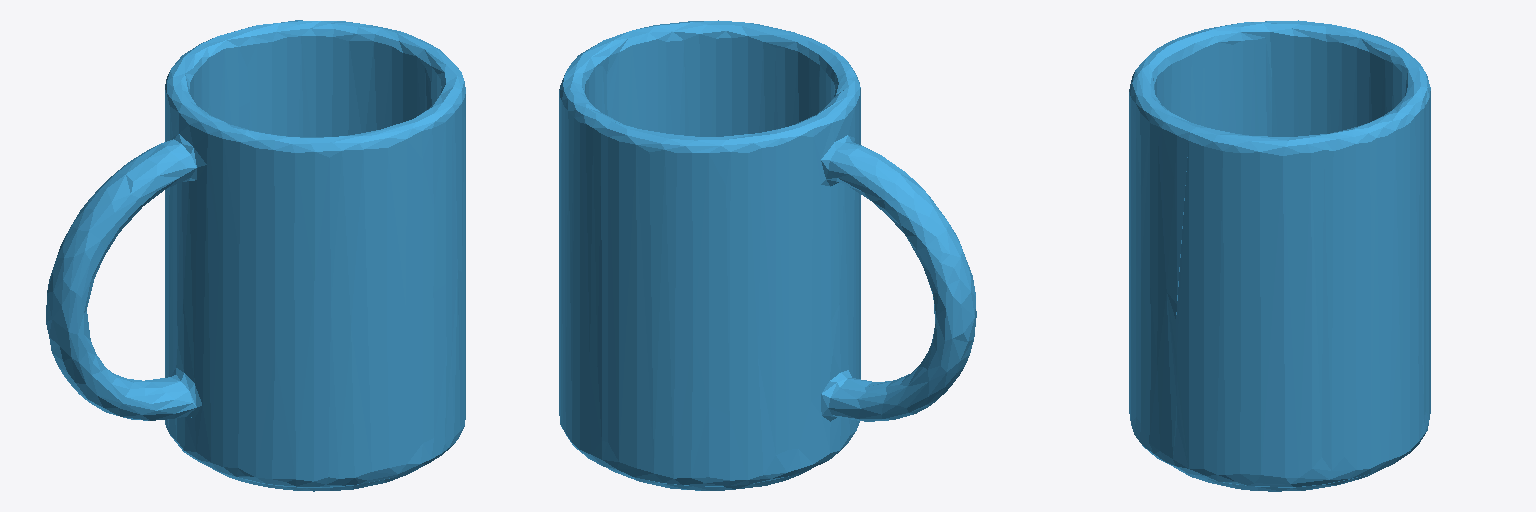
The robot description file, URDF, robot "Mug_ba10400c108e5c3f54e1b6f41fdd78a_M":
<?xml version="1.0"?>
<robot name="Mug_ba10400c108e5c3f54e1b6f41fdd78a_M">
  <link name="base"/>
  <link name="link_0">
  <visual>
    <origin xyz="0.0 0.0 0.0"/>
    <geometry>
      <mesh filename="Mug_ba10400c108e5c3f54e1b6f41fdd78a_M.obj" scale="1.0 1.0 1.0"/>
    </geometry>
  </visual>
  <collision>
    <origin xyz="0.0 0.0 0.0"/>
    <geometry>
      <mesh filename="collision.obj" scale="1.0 1.0 1.0"/>
    </geometry>
  </collision>
  </link>
  <joint name="joint_0" type="fixed">
    <origin rpy="0 0 0" xyz="0 0 0"/>
    <child link="link_0"/>
    <parent link="base"/>
  </joint>
</robot>

--- Render facts (derived) ---
3 views of the same robot in one strip: view 1: azimuth 30°, elevation 25°; view 2: azimuth 150°, elevation 25°; view 3: azimuth 270°, elevation 25° (orthographic).
Robot: Mug_ba10400c108e5c3f54e1b6f41fdd78a_M — 2 links, 1 joints (1 fixed); root link base; default pose: all joints at 0.
Links seen in each view (by area): view 1: link_0; view 2: link_0; view 3: link_0.
Boxes of the visible links, <box> form: link_0: <box>46,20,465,491</box>; link_0: <box>559,20,976,490</box>; link_0: <box>1129,20,1430,491</box>.
Size in the robot's own frame: 0.1175 by 0.0777 by 0.1022 metres.
Meshes: 1 distinct files referenced, 1 mesh visuals loaded (1 OBJ).